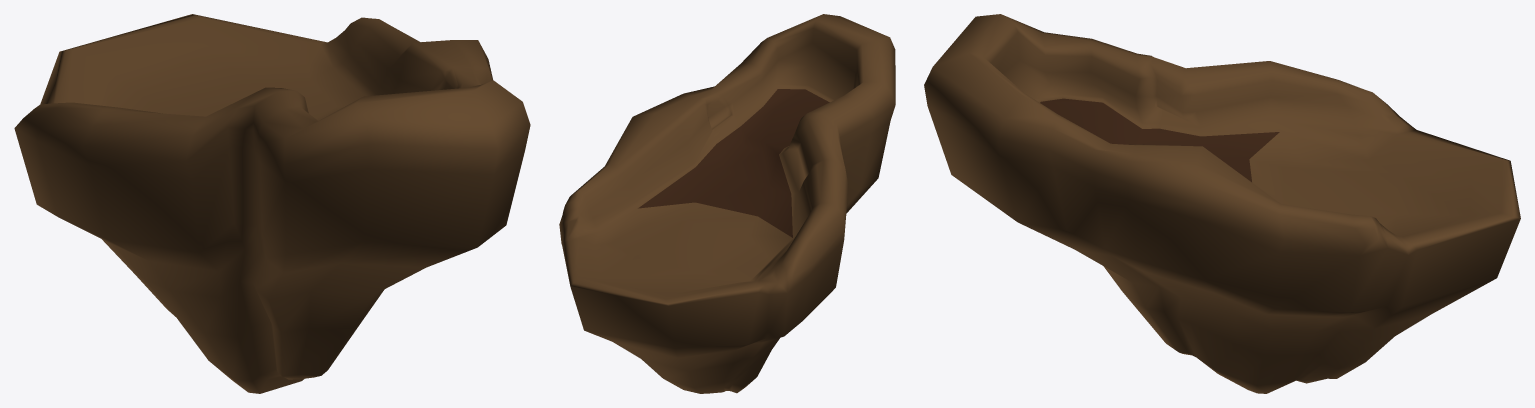
Rendered from cliff.fbx.
3 renders of one model, left to right at view 1: azimuth 30°, elevation 25°; view 2: azimuth 150°, elevation 25°; view 3: azimuth 270°, elevation 25°, orthographic. The views are drawn at different scales.
Parts seen in each view (by area): view 1: island4; view 2: island4; view 3: island4.
Part boxes in pixels (left/top/right/bottom): island4: left=14, top=14, right=530, bottom=393; island4: left=559, top=14, right=895, bottom=393; island4: left=924, top=14, right=1520, bottom=393.
Bounding box in the file's own units: 4.47 × 4.86 × 7.52.
